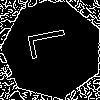L: (27, 24, 78, 61)
